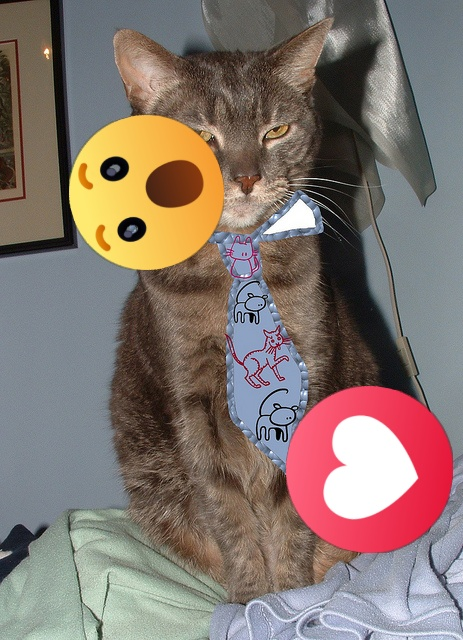love: (286, 386, 453, 553)
wow: (69, 115, 224, 270)
